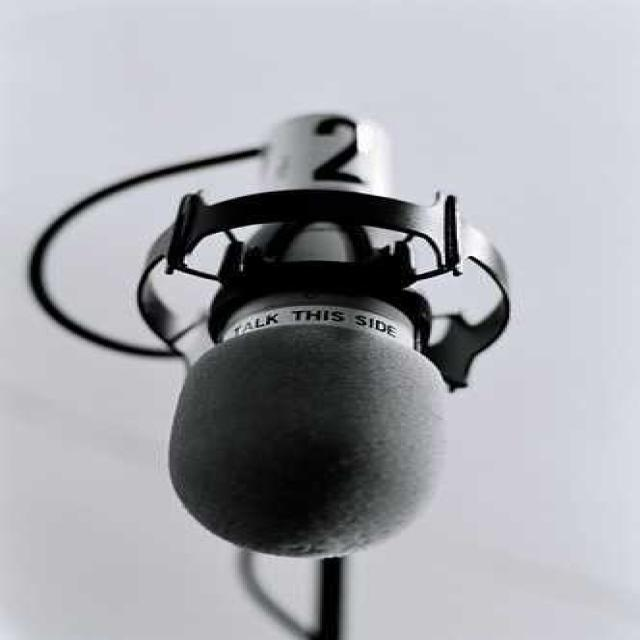microphone: (161, 128, 484, 552)
